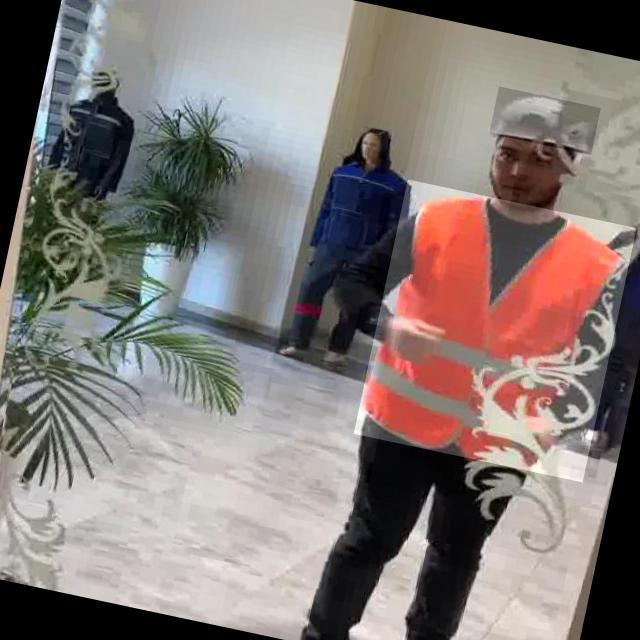Helmet: (489, 86, 601, 155)
Safety Vest: (353, 179, 636, 482)
